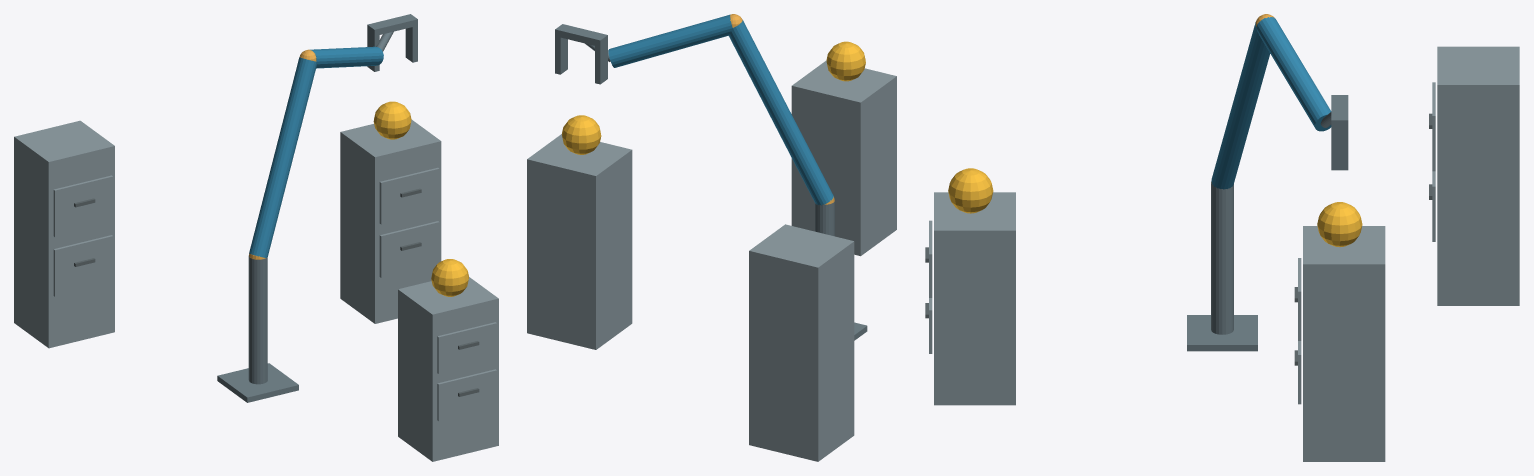
3 views of the same model, side by side, from view 1: azimuth 30°, elevation 25°; view 2: azimuth 150°, elevation 25°; view 3: azimuth 270°, elevation 25° (orthographic). The views are drawn at different scales.
Visible parts, largest first — view 1: cabinet_3 body, cabinet_2 body, cabinet_1 body, moving link 1, cabinet_3 drawer front, cabinet_3 drawer front.001, cabinet_2 drawer front.001, cabinet_2 drawer front, fixed post, cabinet_1 drawer front, cabinet_1 drawer front.001, pedestal (+4 smaller); view 2: cabinet_3 body, cabinet_2 body, cabinet_1 body, moving link 1, moving link 2, released ball_1, ball ball_2, gripper bridge, fixed post, gripper finger -1, gripper finger 1; view 3: cabinet_3 body, cabinet_2 body, cabinet_1 body, moving link 1, fixed post, moving link 2, pedestal, released ball_1, ball ball_2, gripper finger 1, gripper bridge.
Part boxes in pixels (<box>): cabinet_3 body: <box>14,120,114,348</box>; cabinet_2 body: <box>340,120,441,323</box>; cabinet_1 body: <box>398,277,498,461</box>; moving link 1: <box>249,57,316,257</box>; cabinet_3 drawer front: <box>53,235,113,296</box>; cabinet_3 drawer front.001: <box>53,175,113,236</box>; cabinet_2 drawer front.001: <box>379,167,439,224</box>; cabinet_2 drawer front: <box>379,221,439,277</box>; fixed post: <box>248,255,267,384</box>; cabinet_1 drawer front: <box>437,369,496,421</box>; cabinet_1 drawer front.001: <box>437,322,496,373</box>; pedestal: <box>217,363,298,402</box>; cabinet_3 body: <box>749,224,854,461</box>; cabinet_2 body: <box>527,134,632,349</box>; cabinet_1 body: <box>791,60,896,256</box>; moving link 1: <box>729,20,833,205</box>; moving link 2: <box>608,14,732,67</box>; released ball_1: <box>826,41,865,81</box>; ball ball_2: <box>562,115,601,154</box>; gripper bridge: <box>555,24,607,47</box>; fixed post: <box>815,200,834,236</box>; gripper finger -1: <box>595,42,607,84</box>; gripper finger 1: <box>555,36,567,74</box>; cabinet_3 body: <box>1437,46,1519,305</box>; cabinet_2 body: <box>1303,226,1385,461</box>; cabinet_1 body: <box>934,192,1015,405</box>; moving link 1: <box>1211,22,1270,189</box>; fixed post: <box>1211,182,1233,334</box>; moving link 2: <box>1256,17,1331,131</box>; pedestal: <box>1187,315,1257,351</box>; released ball_1: <box>948,168,993,213</box>; ball ball_2: <box>1317,202,1362,247</box>; gripper finger 1: <box>1331,128,1348,170</box>; gripper bridge: <box>1331,95,1348,127</box>.
Bounding box in the file's own units: 1.62 × 1.41 × 2.1.
